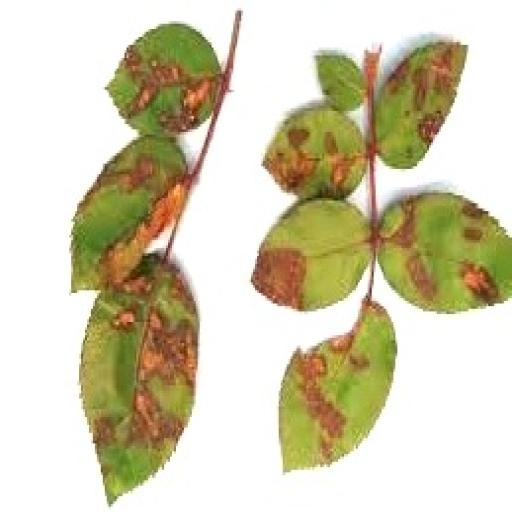downy_mildew: (82, 256, 197, 504), (279, 301, 397, 469), (72, 138, 185, 290), (380, 193, 511, 311), (252, 198, 369, 311), (107, 24, 221, 134), (376, 43, 466, 168), (263, 106, 365, 197), (317, 53, 365, 110)
